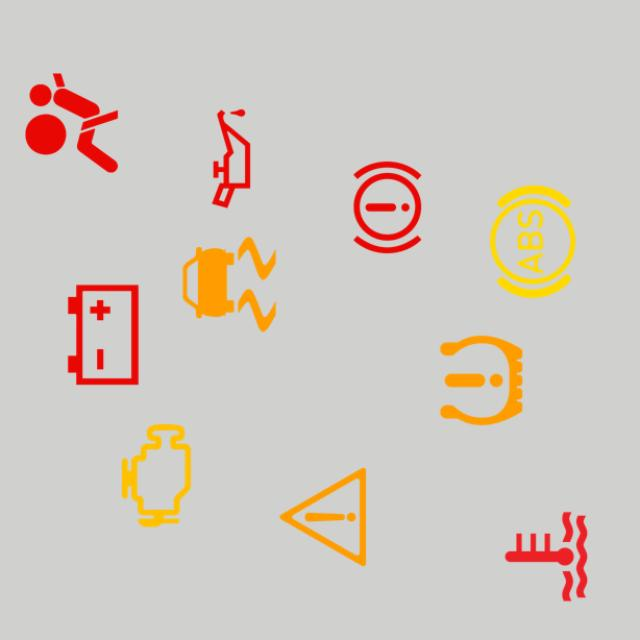Anti Lock Braking System: (471, 180, 594, 304)
Braking System Issue: (326, 146, 449, 269)
Charging System Issue: (42, 273, 165, 396)
Check Engine: (95, 414, 218, 537)
Electronic Stability Problem -ESP-: (168, 223, 291, 346)
Engine Overheating Warning Light: (484, 495, 608, 618)
Low Engine Oil Warning Light: (170, 97, 293, 220)
Low Tire Pressure Warning Light: (420, 319, 543, 442)
Master warning light: (262, 456, 384, 578)
SRS-Airbag: (10, 62, 134, 185)
